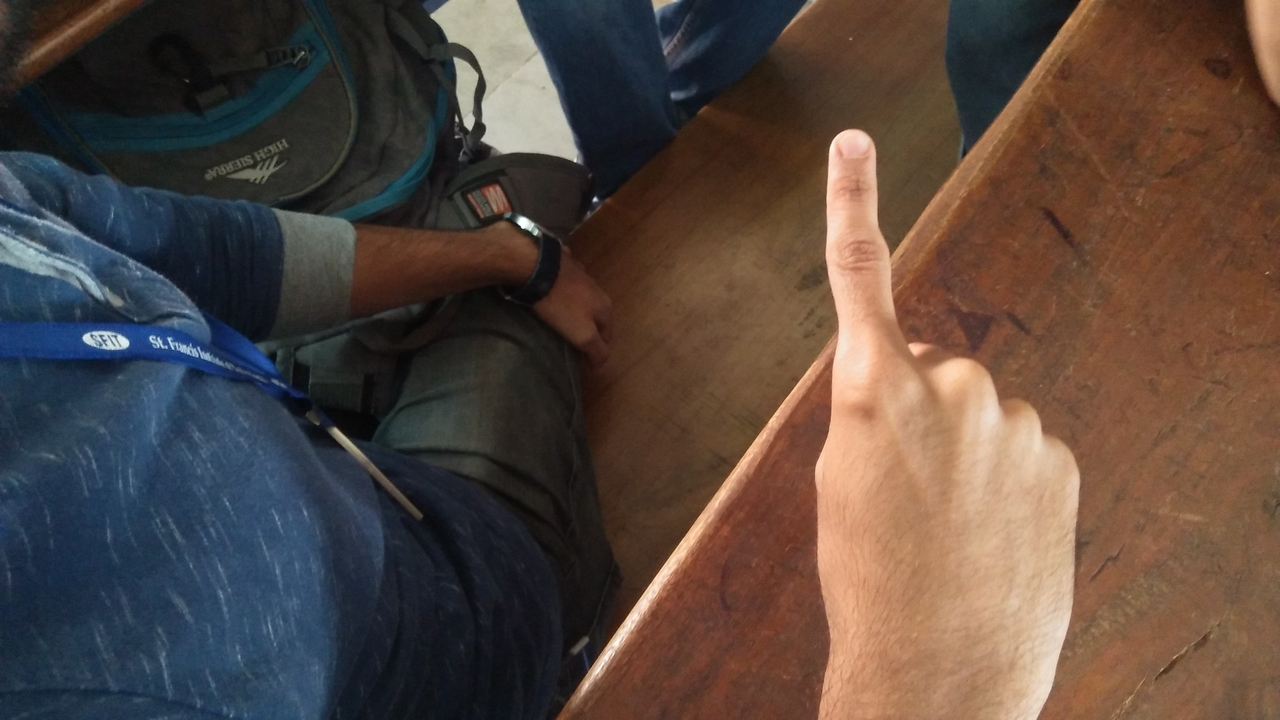fingertip: (824, 124, 886, 178)
